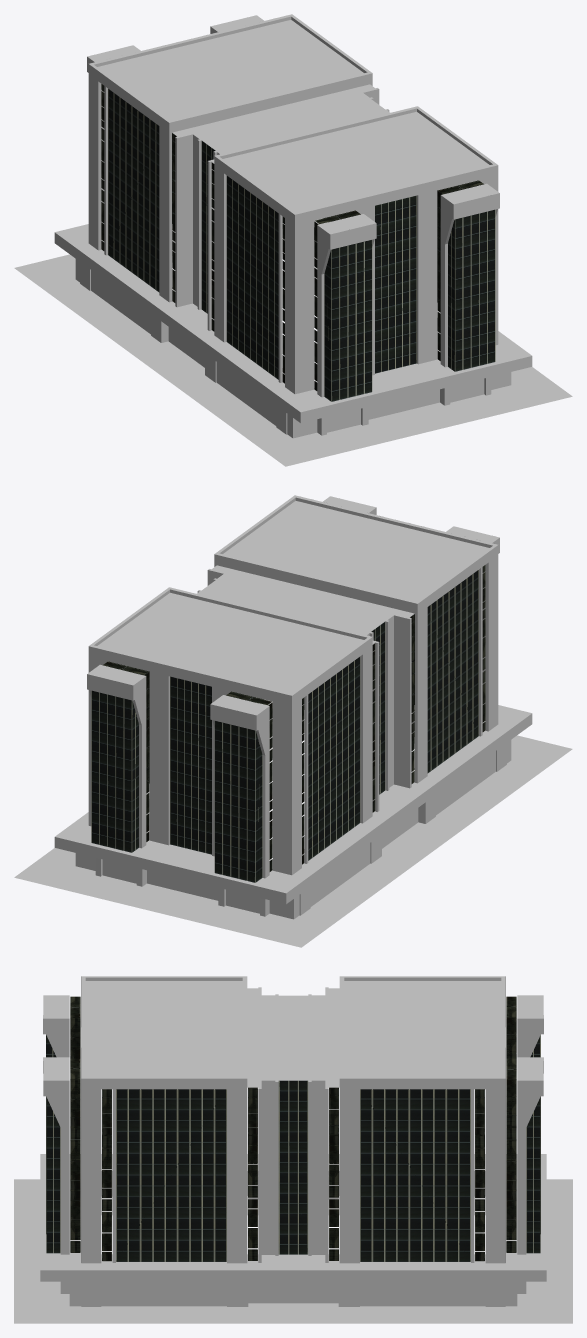
3 views of the same model, one above another, from view 1: azimuth 30°, elevation 25°; view 2: azimuth 150°, elevation 25°; view 3: azimuth 270°, elevation 25° (orthographic). The views are drawn at different scales.
Visible parts, largest first — view 1: M-006; view 2: M-006; view 3: M-006.
Boxes of the visible parts, x1,y1,x2,y2 form: M-006: (14,14,572,466); M-006: (14,495,572,947); M-006: (14,976,572,1323).
Size of what is drawn, in the model's own units: 44 by 31.89 by 72.
